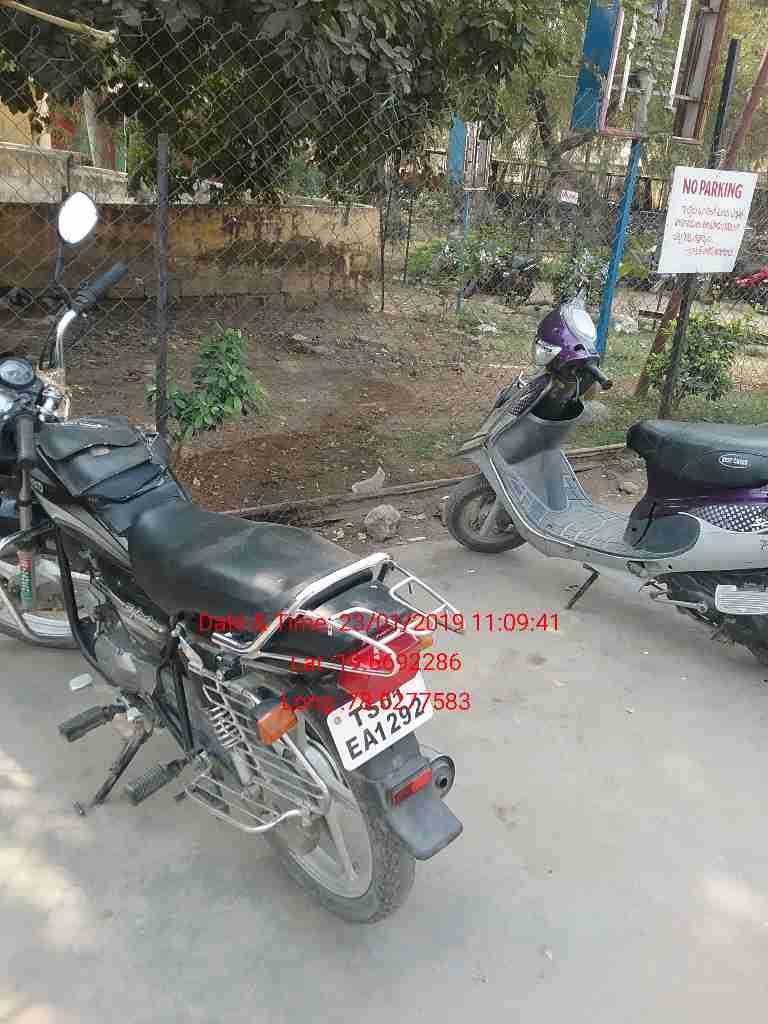plate: (324, 667, 443, 771)
